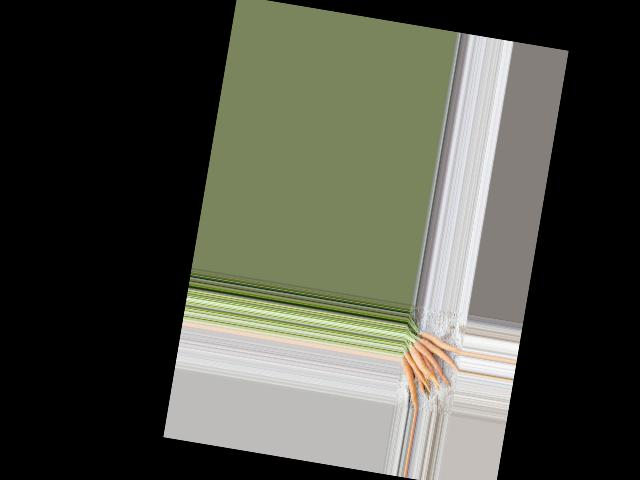carrot: (394, 353, 427, 409)
